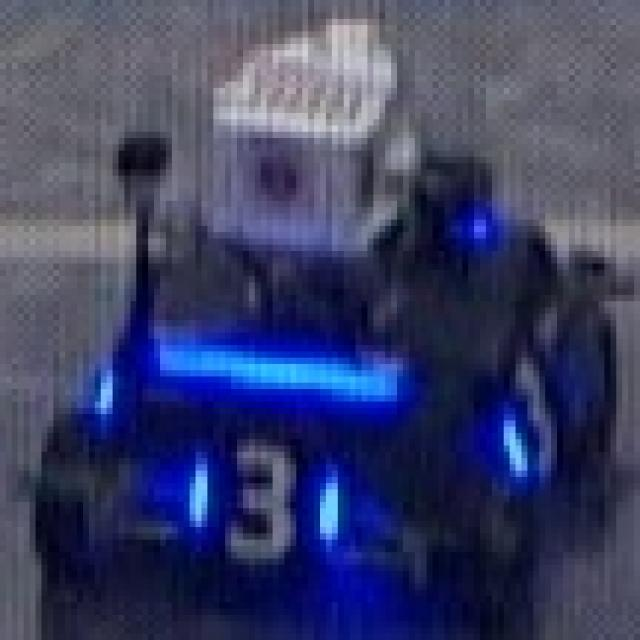B3: (184, 420, 344, 571), (492, 333, 575, 483)
